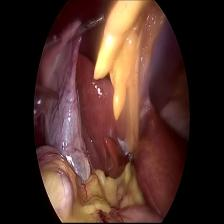Grasper: (69, 14, 106, 44)
